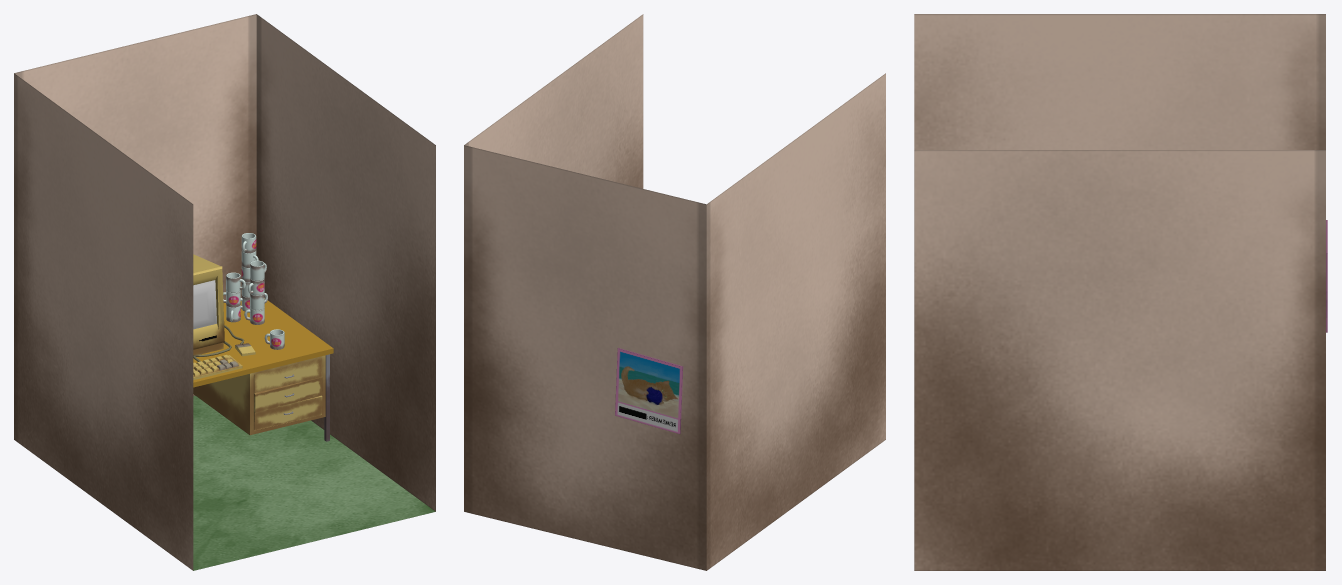
File: Desk.fbx
3 views of the same model, side by side, from view 1: azimuth 30°, elevation 25°; view 2: azimuth 150°, elevation 25°; view 3: azimuth 270°, elevation 25° (orthographic). The views are drawn at different scales.
Parts seen in each view (by area): view 1: Cube, Desk, Computer, MugStack2, Computer.001, MugStack1, MugStack3; view 2: Cube, Plane; view 3: Cube.
Part boxes in pixels (x1,y1,x2,y2): Cube: (14, 14, 435, 570); Desk: (193, 298, 333, 441); Computer: (193, 254, 255, 379); MugStack2: (244, 260, 267, 324); Computer.001: (193, 280, 216, 329); MugStack1: (240, 233, 258, 311); MugStack3: (223, 272, 245, 322); Cube: (464, 14, 885, 570); Plane: (615, 348, 683, 434); Cube: (914, 14, 1325, 570).
Size of the model in its own units: 208 by 300 by 267.
